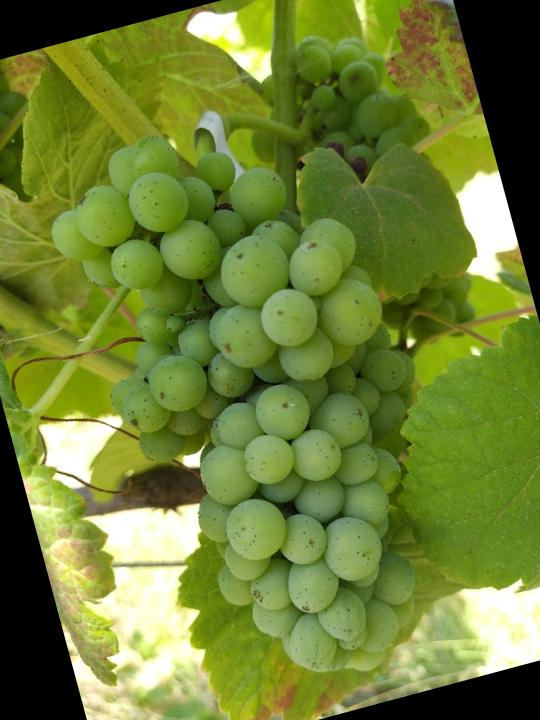grape: (33, 83, 492, 720)
